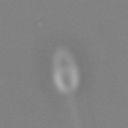normal: (59, 94, 92, 128)
